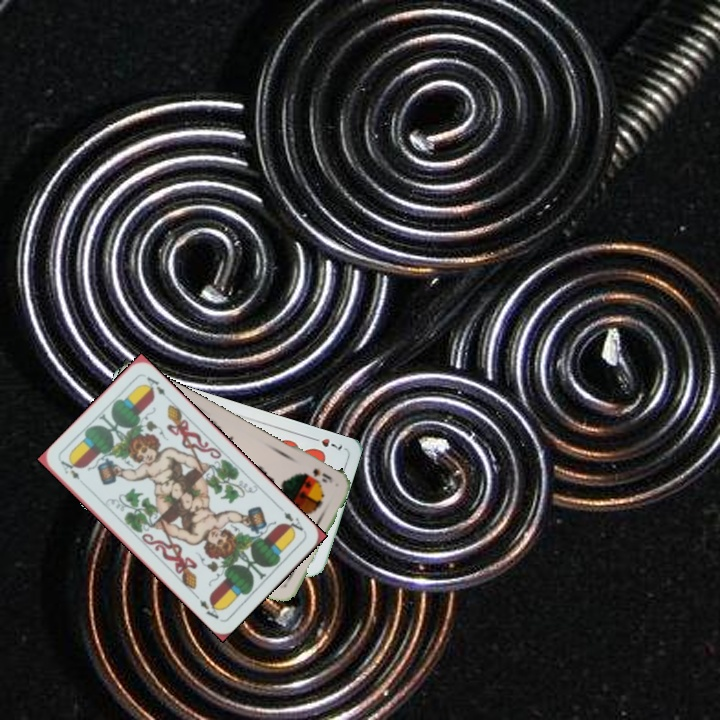EA: (279, 507, 306, 536), (56, 456, 82, 482)
H7: (307, 433, 345, 452)
SO: (300, 464, 335, 485)
